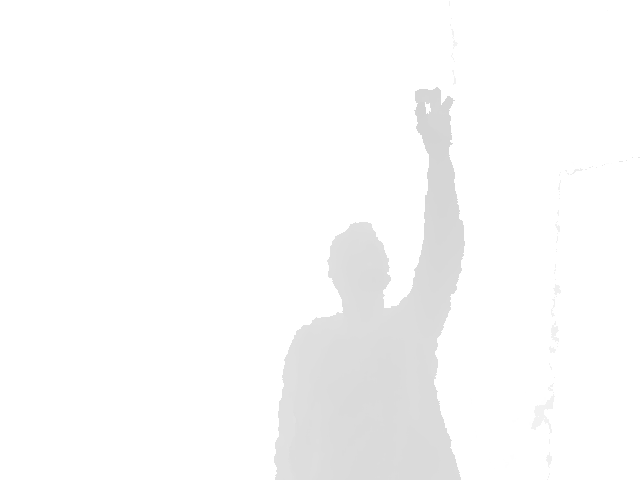hand: (413, 87, 456, 155)
head: (327, 221, 392, 311)
person: (272, 87, 467, 479)
